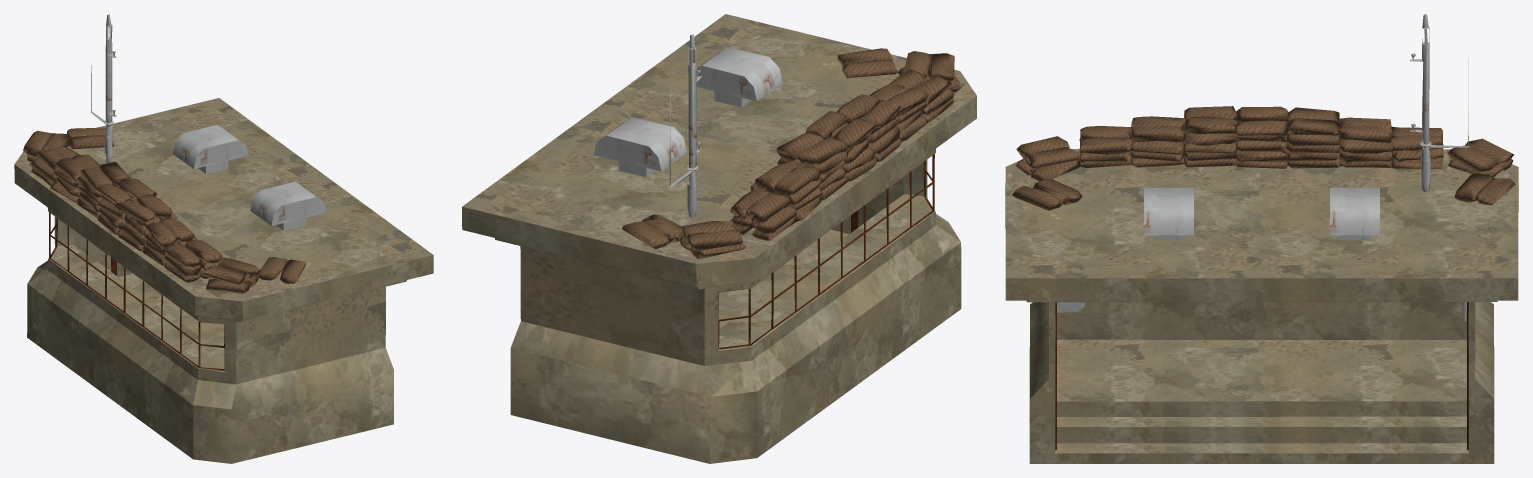
Rendered from mil_outpost.glb.
3 views of the same model, side by side, from view 1: azimuth 30°, elevation 25°; view 2: azimuth 150°, elevation 25°; view 3: azimuth 270°, elevation 25° (orthographic). The views are drawn at different scales.
Visible parts, largest first — view 1: mil_outpost; view 2: mil_outpost; view 3: mil_outpost.
Part boxes in pixels (x1=…): mil_outpost: x1=14, y1=14, x2=433, y2=463; mil_outpost: x1=462, y1=14, x2=976, y2=463; mil_outpost: x1=1005, y1=14, x2=1518, y2=463.
Size of the model in its own units: 5.97 by 8.11 by 9.93.
1 material, 1 textured.
